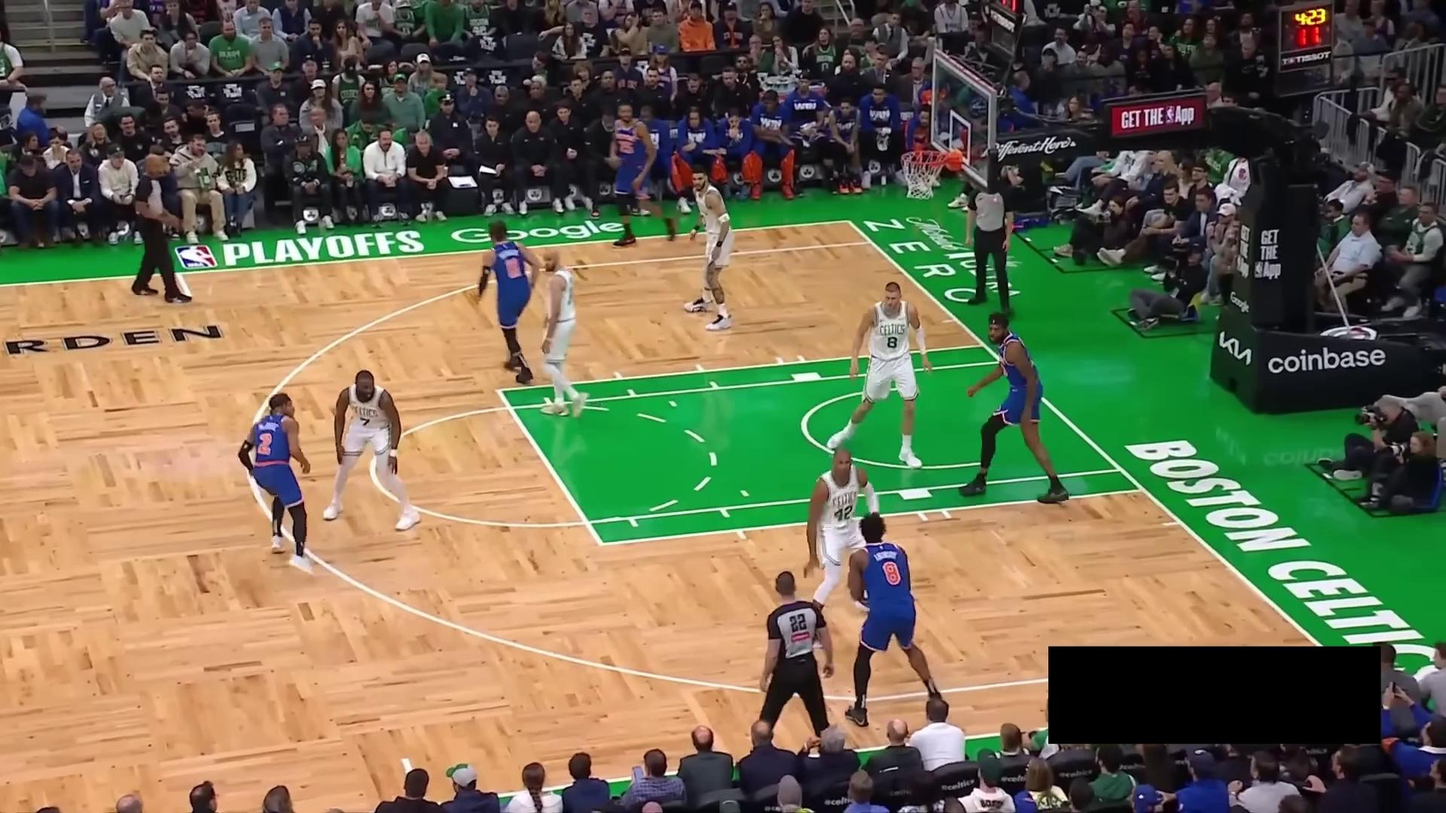number: (882, 560, 901, 586), (505, 256, 523, 278), (834, 504, 854, 522), (258, 432, 273, 456), (618, 139, 634, 154), (885, 334, 899, 350), (359, 416, 371, 428)
player: (957, 312, 1071, 505), (843, 512, 944, 728), (826, 280, 933, 470), (322, 369, 423, 531), (804, 446, 883, 644), (238, 390, 316, 577), (477, 218, 541, 385), (607, 99, 678, 248), (538, 247, 590, 421), (682, 164, 736, 331)
referee: (755, 570, 835, 748), (131, 154, 193, 303), (965, 182, 1015, 317)
rim: (900, 149, 949, 166)
